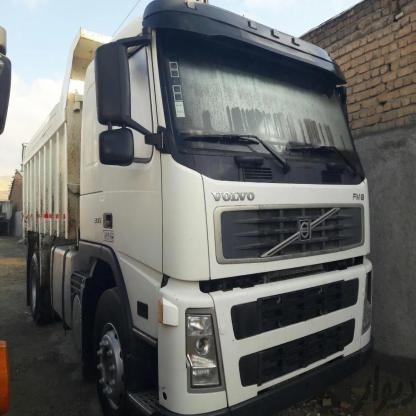Truck: (24, 0, 372, 416)
